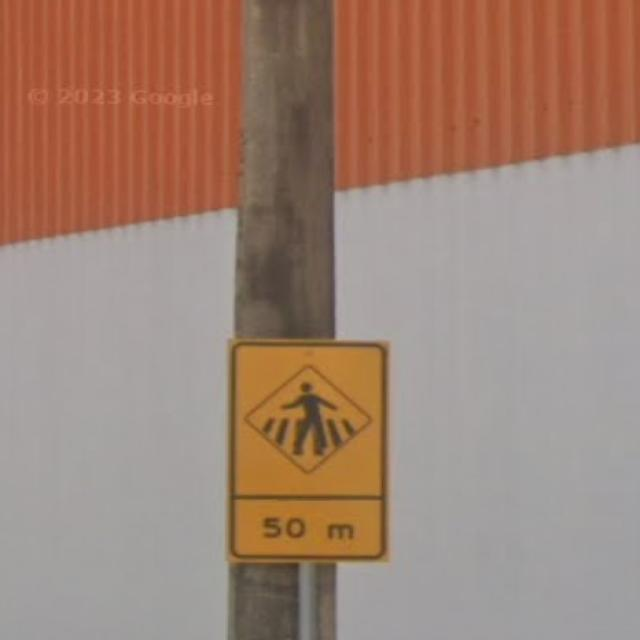pedestrian crossing: (219, 326, 402, 576)
